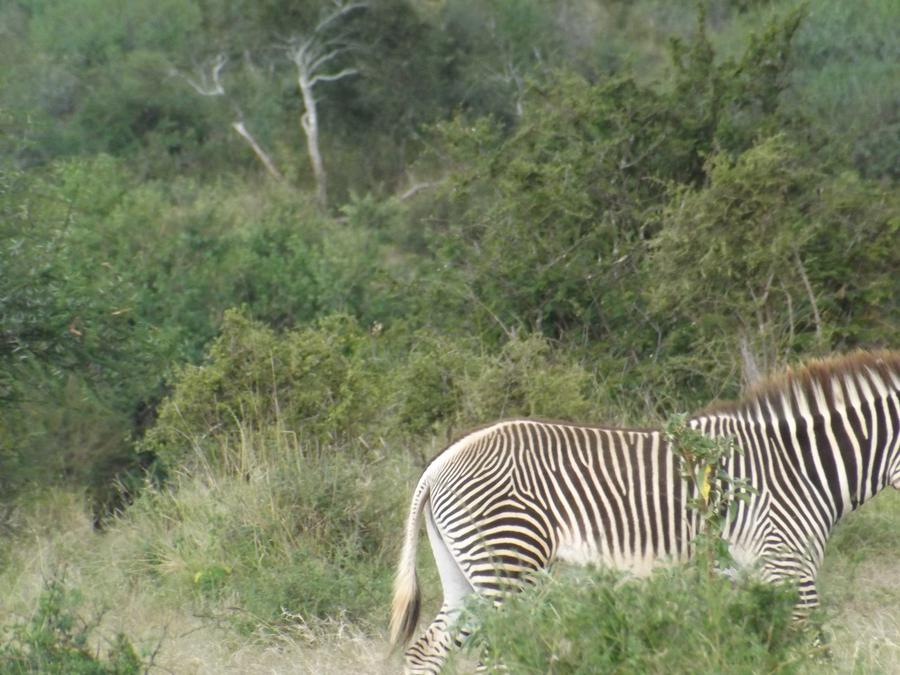zebra_grevys: (384, 393, 822, 583)
